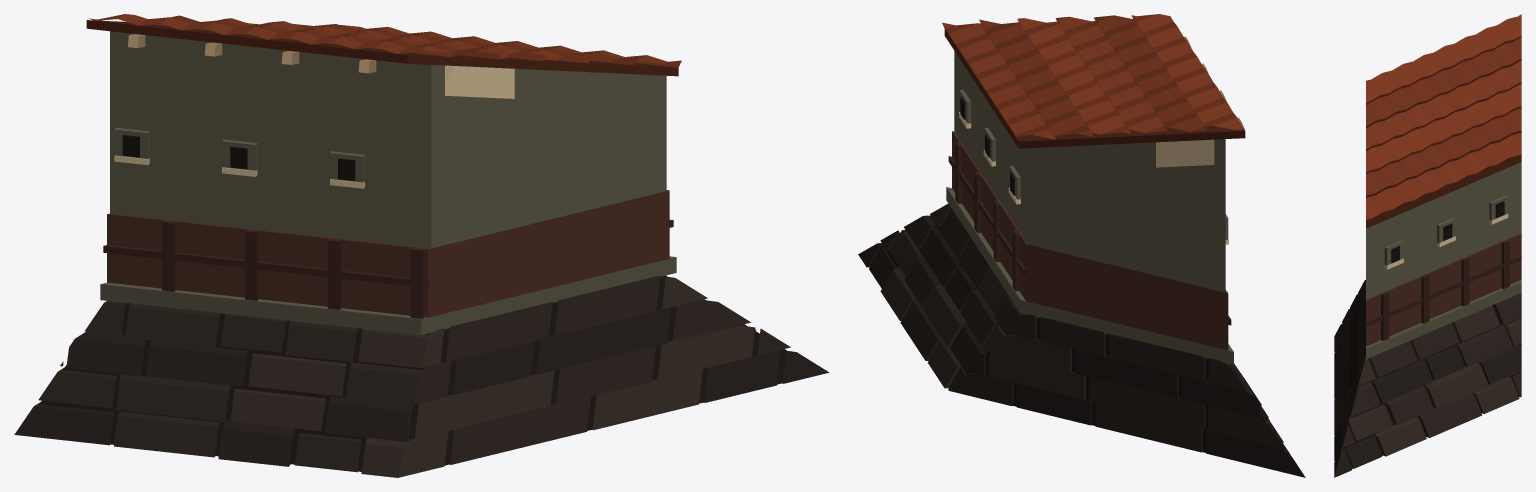
File: VerWall12.glb
The picture shows the model from 3 angles, left to right: view 1: azimuth 30°, elevation 25°; view 2: azimuth 150°, elevation 25°; view 3: azimuth 270°, elevation 25°; orthographic projection. The views are drawn at different scales.
Visible parts, largest first — view 1: VerWall12_mortar; view 2: VerWall12_mortar; view 3: VerWall12_mortar.
Part boxes in pixels (<box>): VerWall12_mortar: <box>14,14,829,477</box>; VerWall12_mortar: <box>858,14,1305,477</box>; VerWall12_mortar: <box>1334,14,1521,477</box>.
Size of the model in its own units: 9.81 by 5.57 by 3.53.
